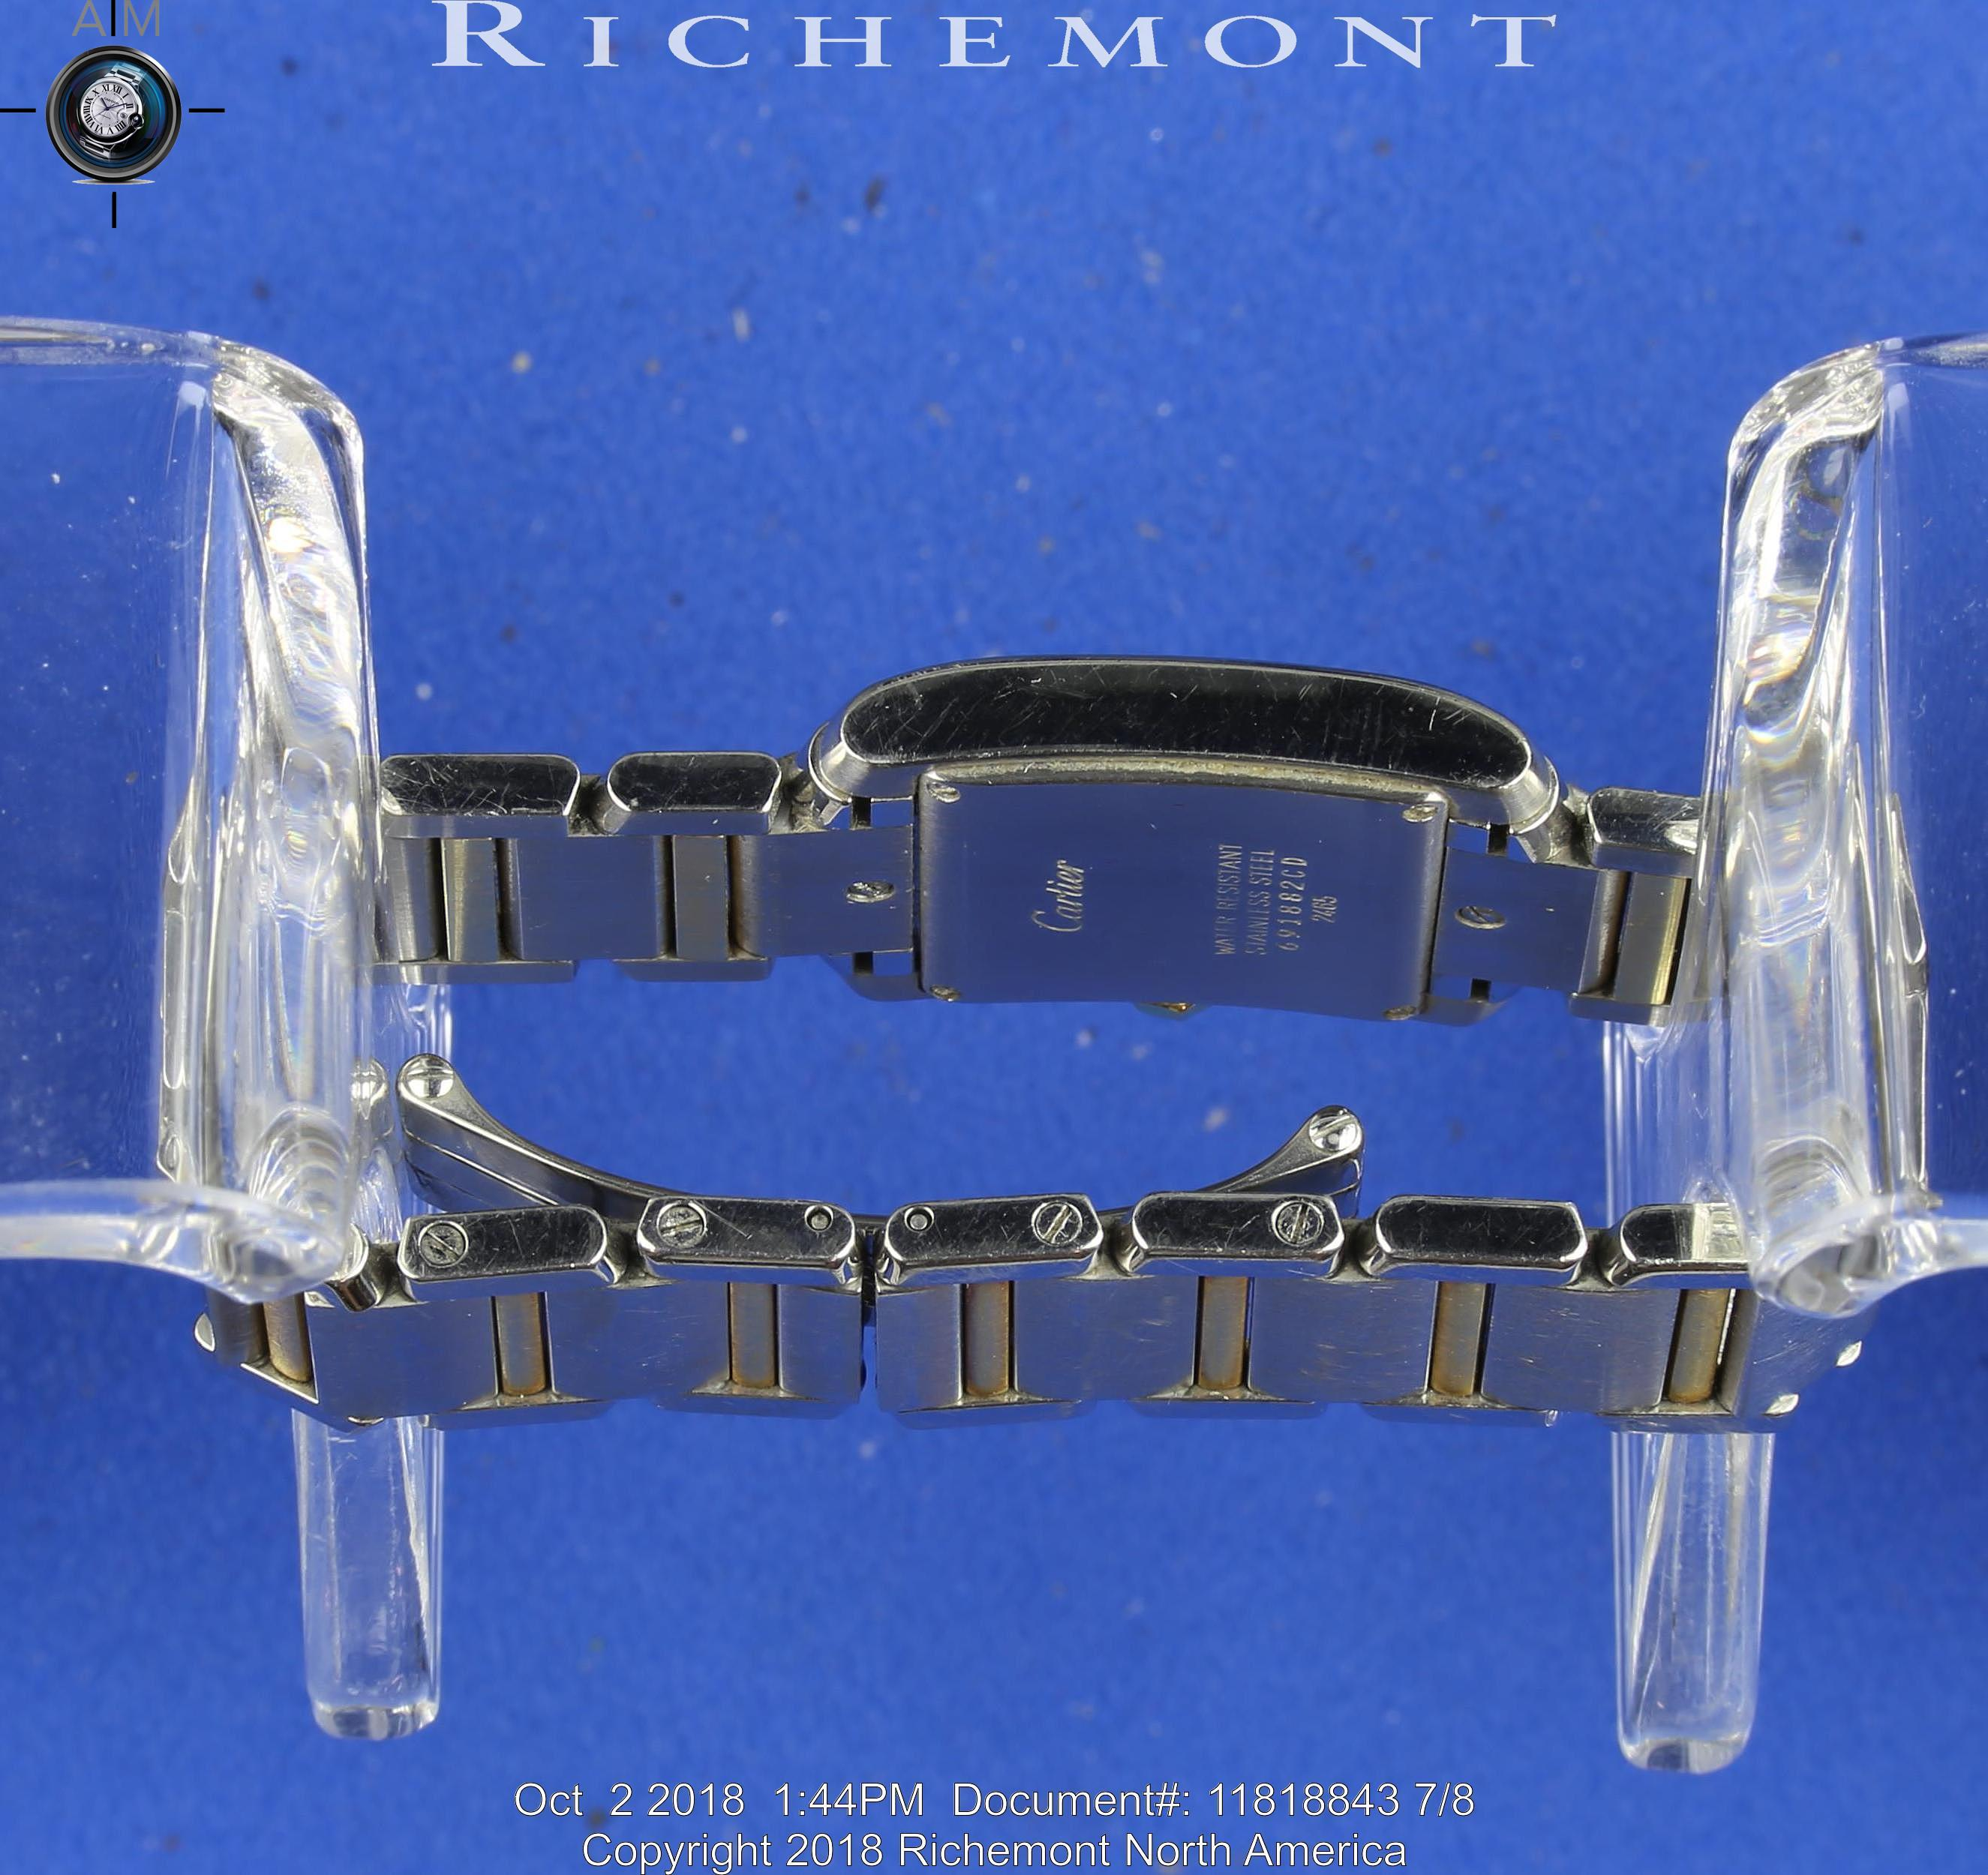watchback: (763, 694, 1556, 1094)
